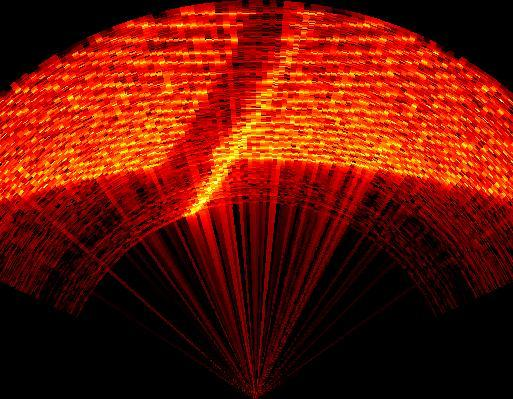pipe: (150, 2, 308, 210)
